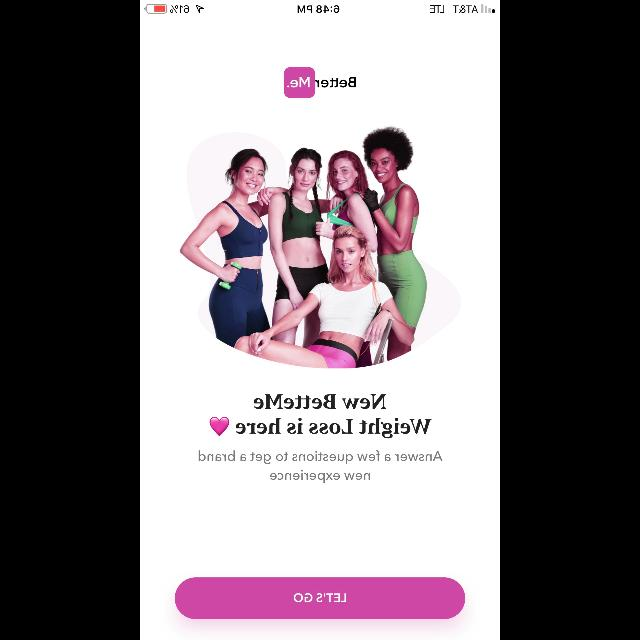icon: (209, 417, 229, 437)
image: (179, 125, 461, 368), (284, 68, 356, 99)
text: (198, 451, 442, 484), (236, 418, 432, 438), (254, 394, 386, 410)
textbutton: (175, 577, 465, 619)
uppertaskbar: (140, 0, 500, 14)
